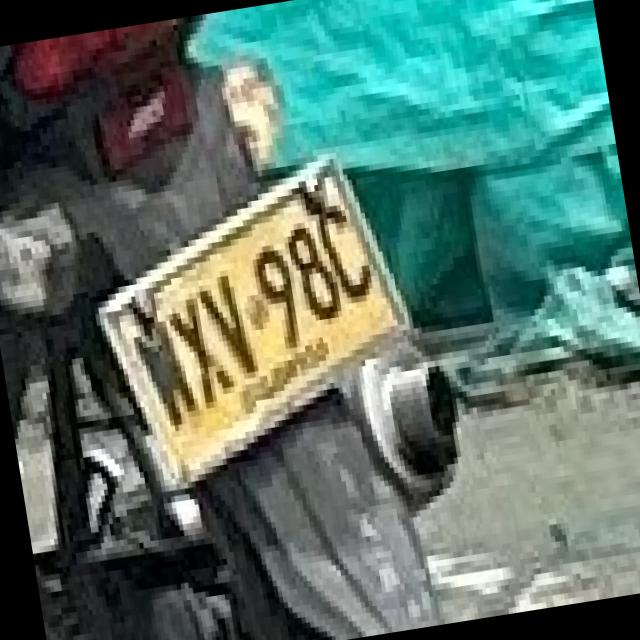number plate: (98, 147, 413, 495)
